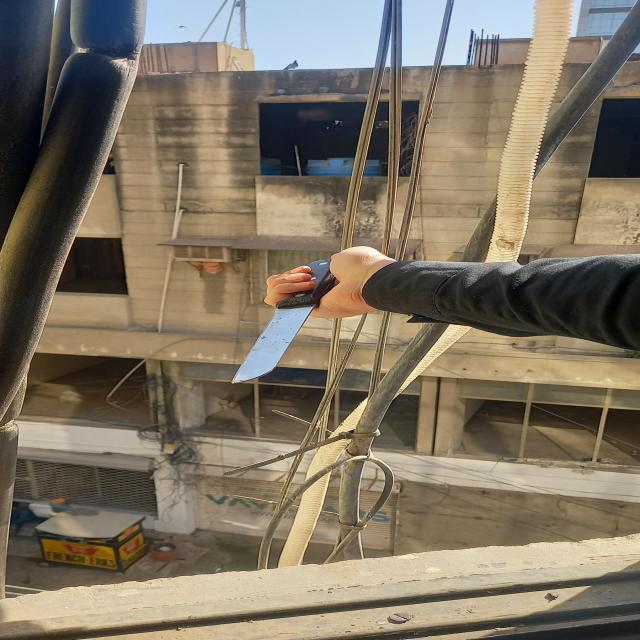faca: (236, 259, 346, 384)
